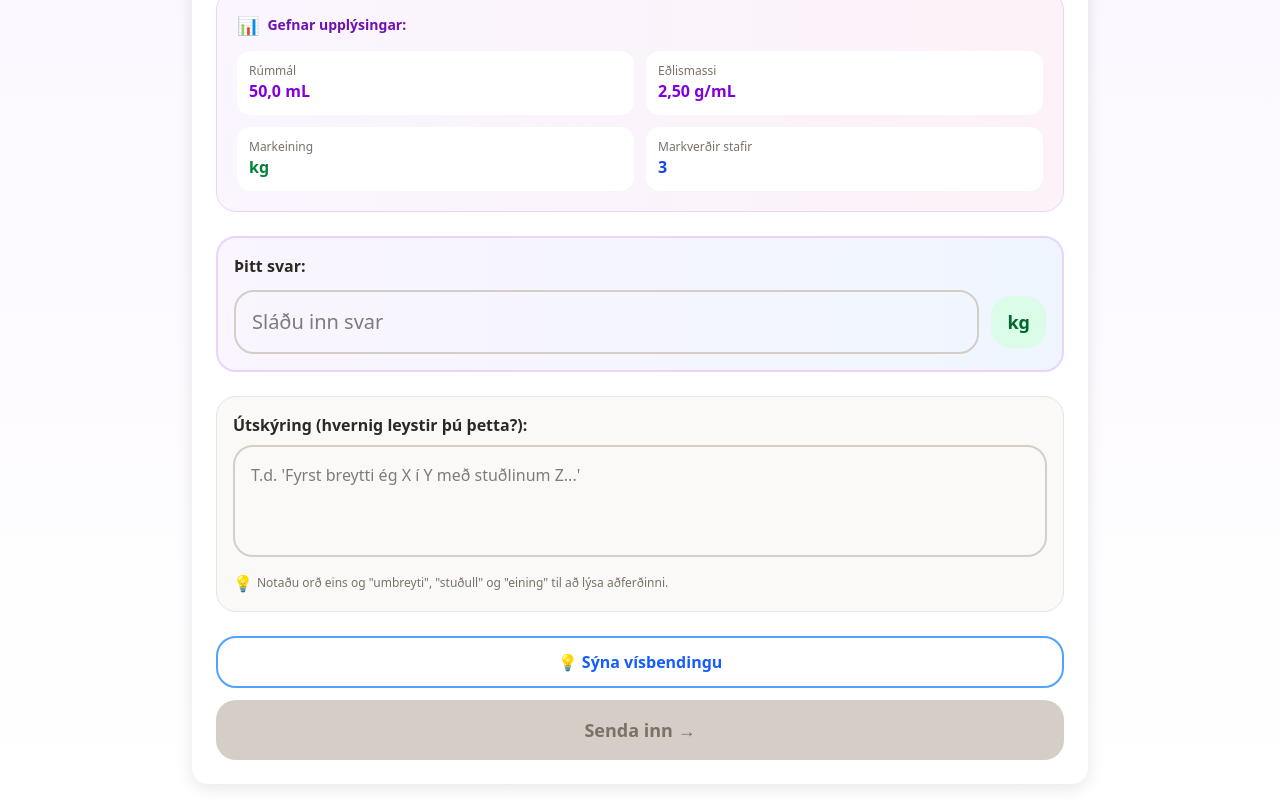
Scenario: the submit button asks for what the item grades › every other type needs its number, and every type its explanation
The width and height of the screenshot is (1280, 800).
(page scrolled)
Type "Ég umbreytti einingunum skref fyrir skref með stuðlum." into the text box labelled "Útskýring (hvernig leystir þú þetta?):" at (640, 501), box [233,445,1047,557]
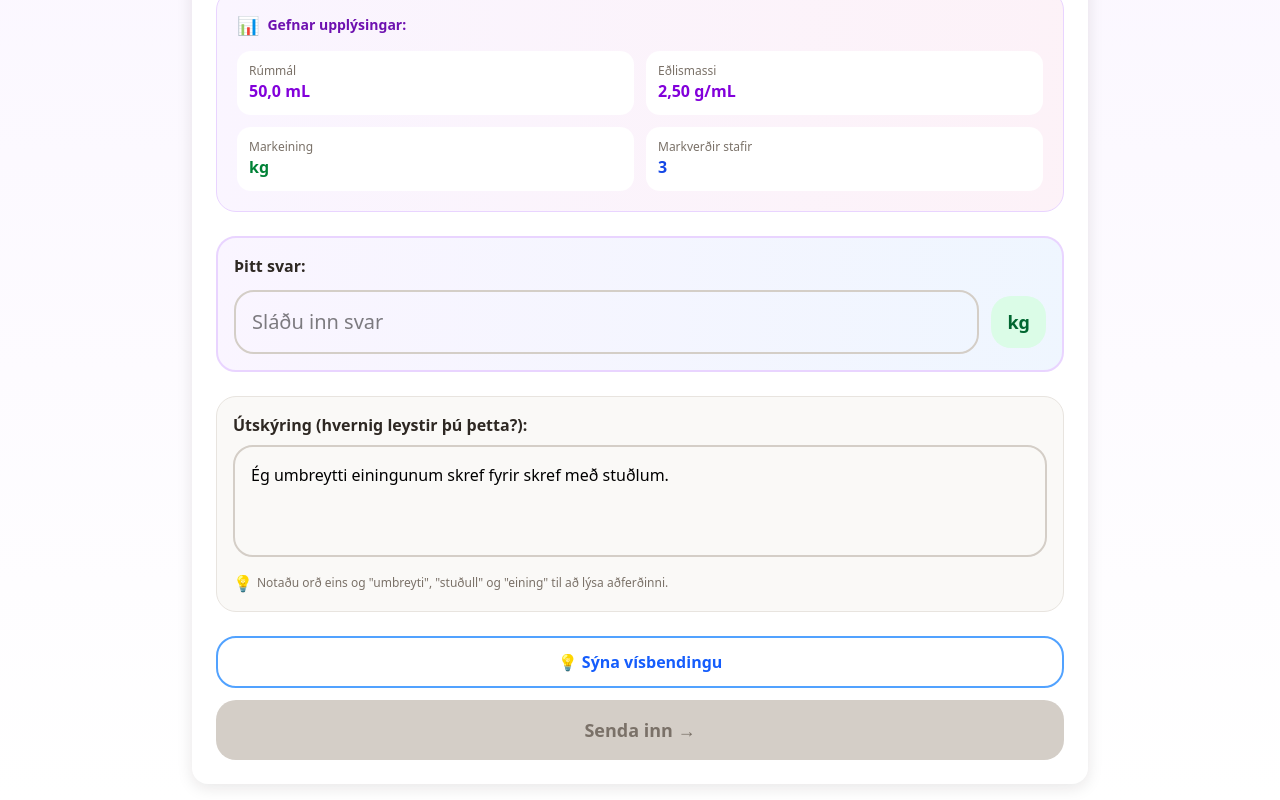
Check: the button "Senda inn →" is disabled, box [216,700,1064,760]
Type "0,125" into the field labelled "Þitt svar:" at (607, 322), box [234,290,979,354]
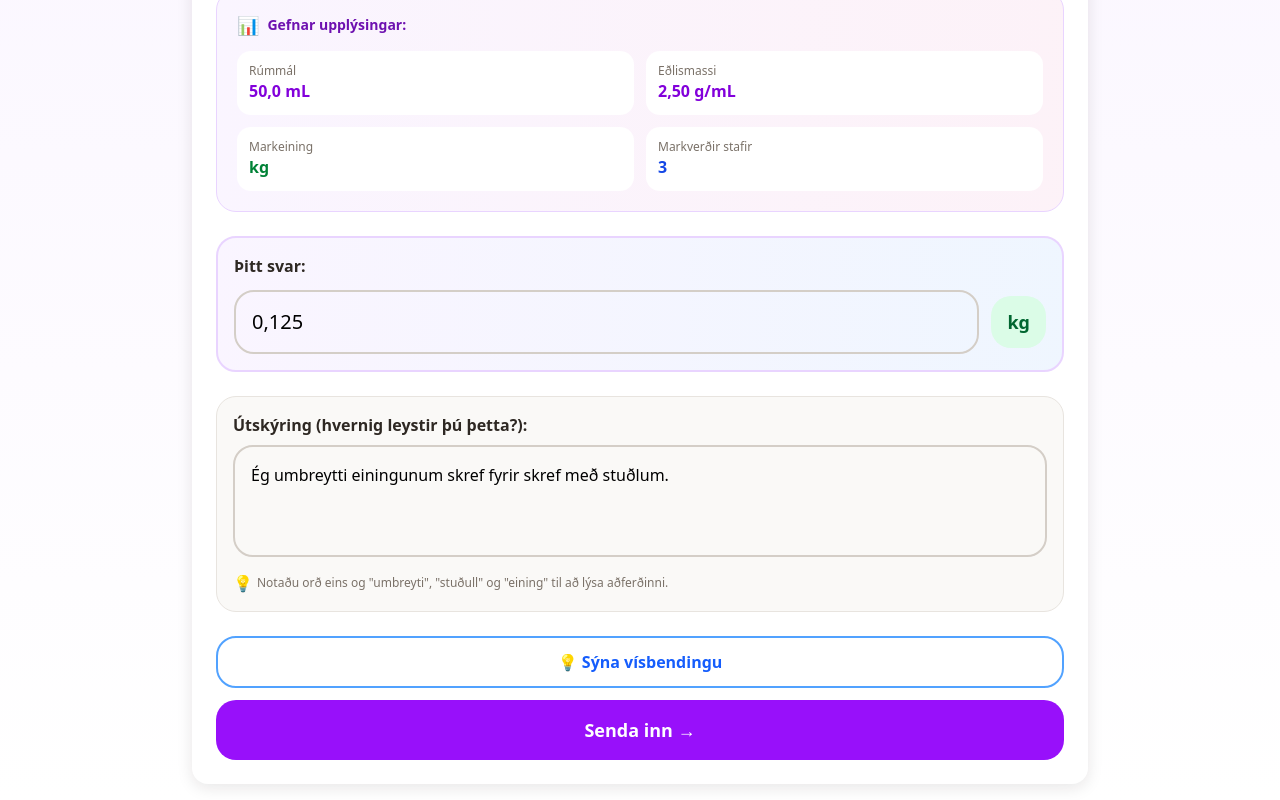
Check: the button "Senda inn →" is enabled, box [216,700,1064,760]
Clear the text box labelled "Útskýring (hvernig leystir þú þetta?):" at (640, 501), box [233,445,1047,557]
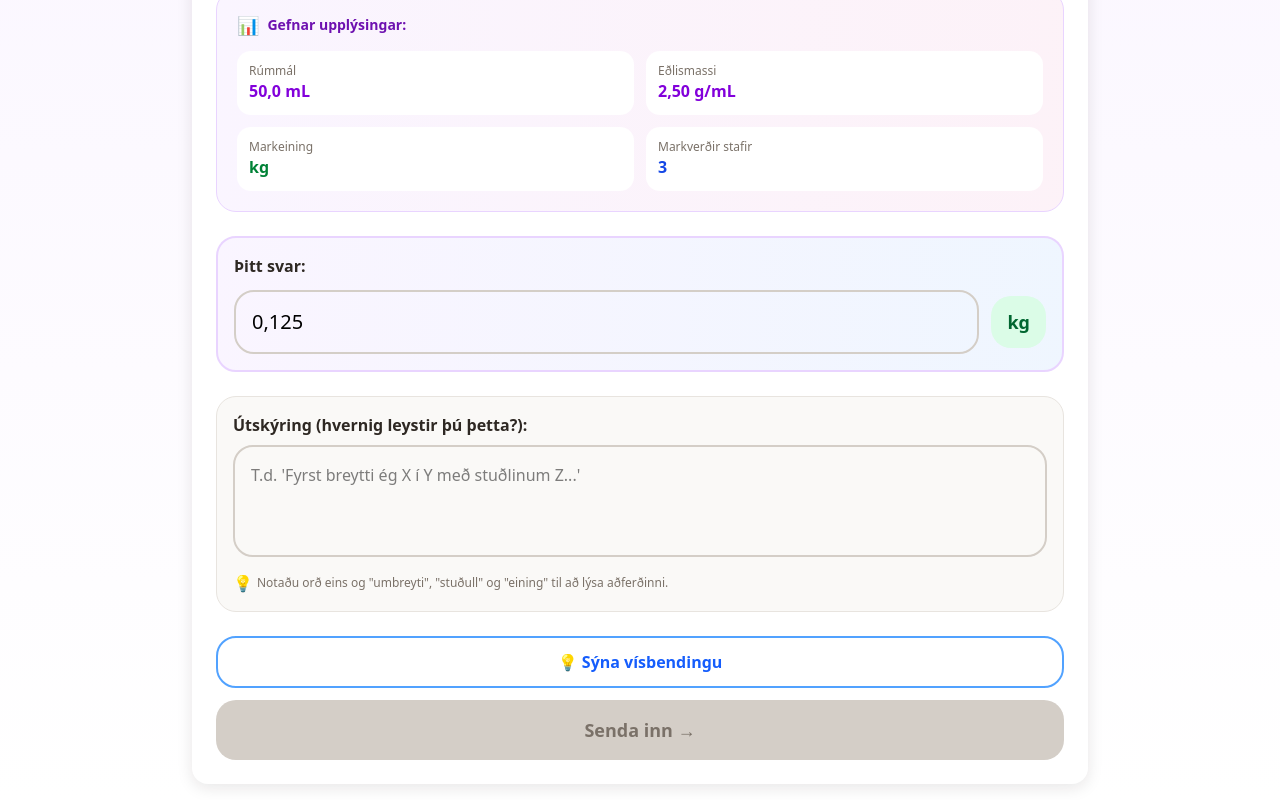
Check: the button "Senda inn →" is disabled, box [216,700,1064,760]
